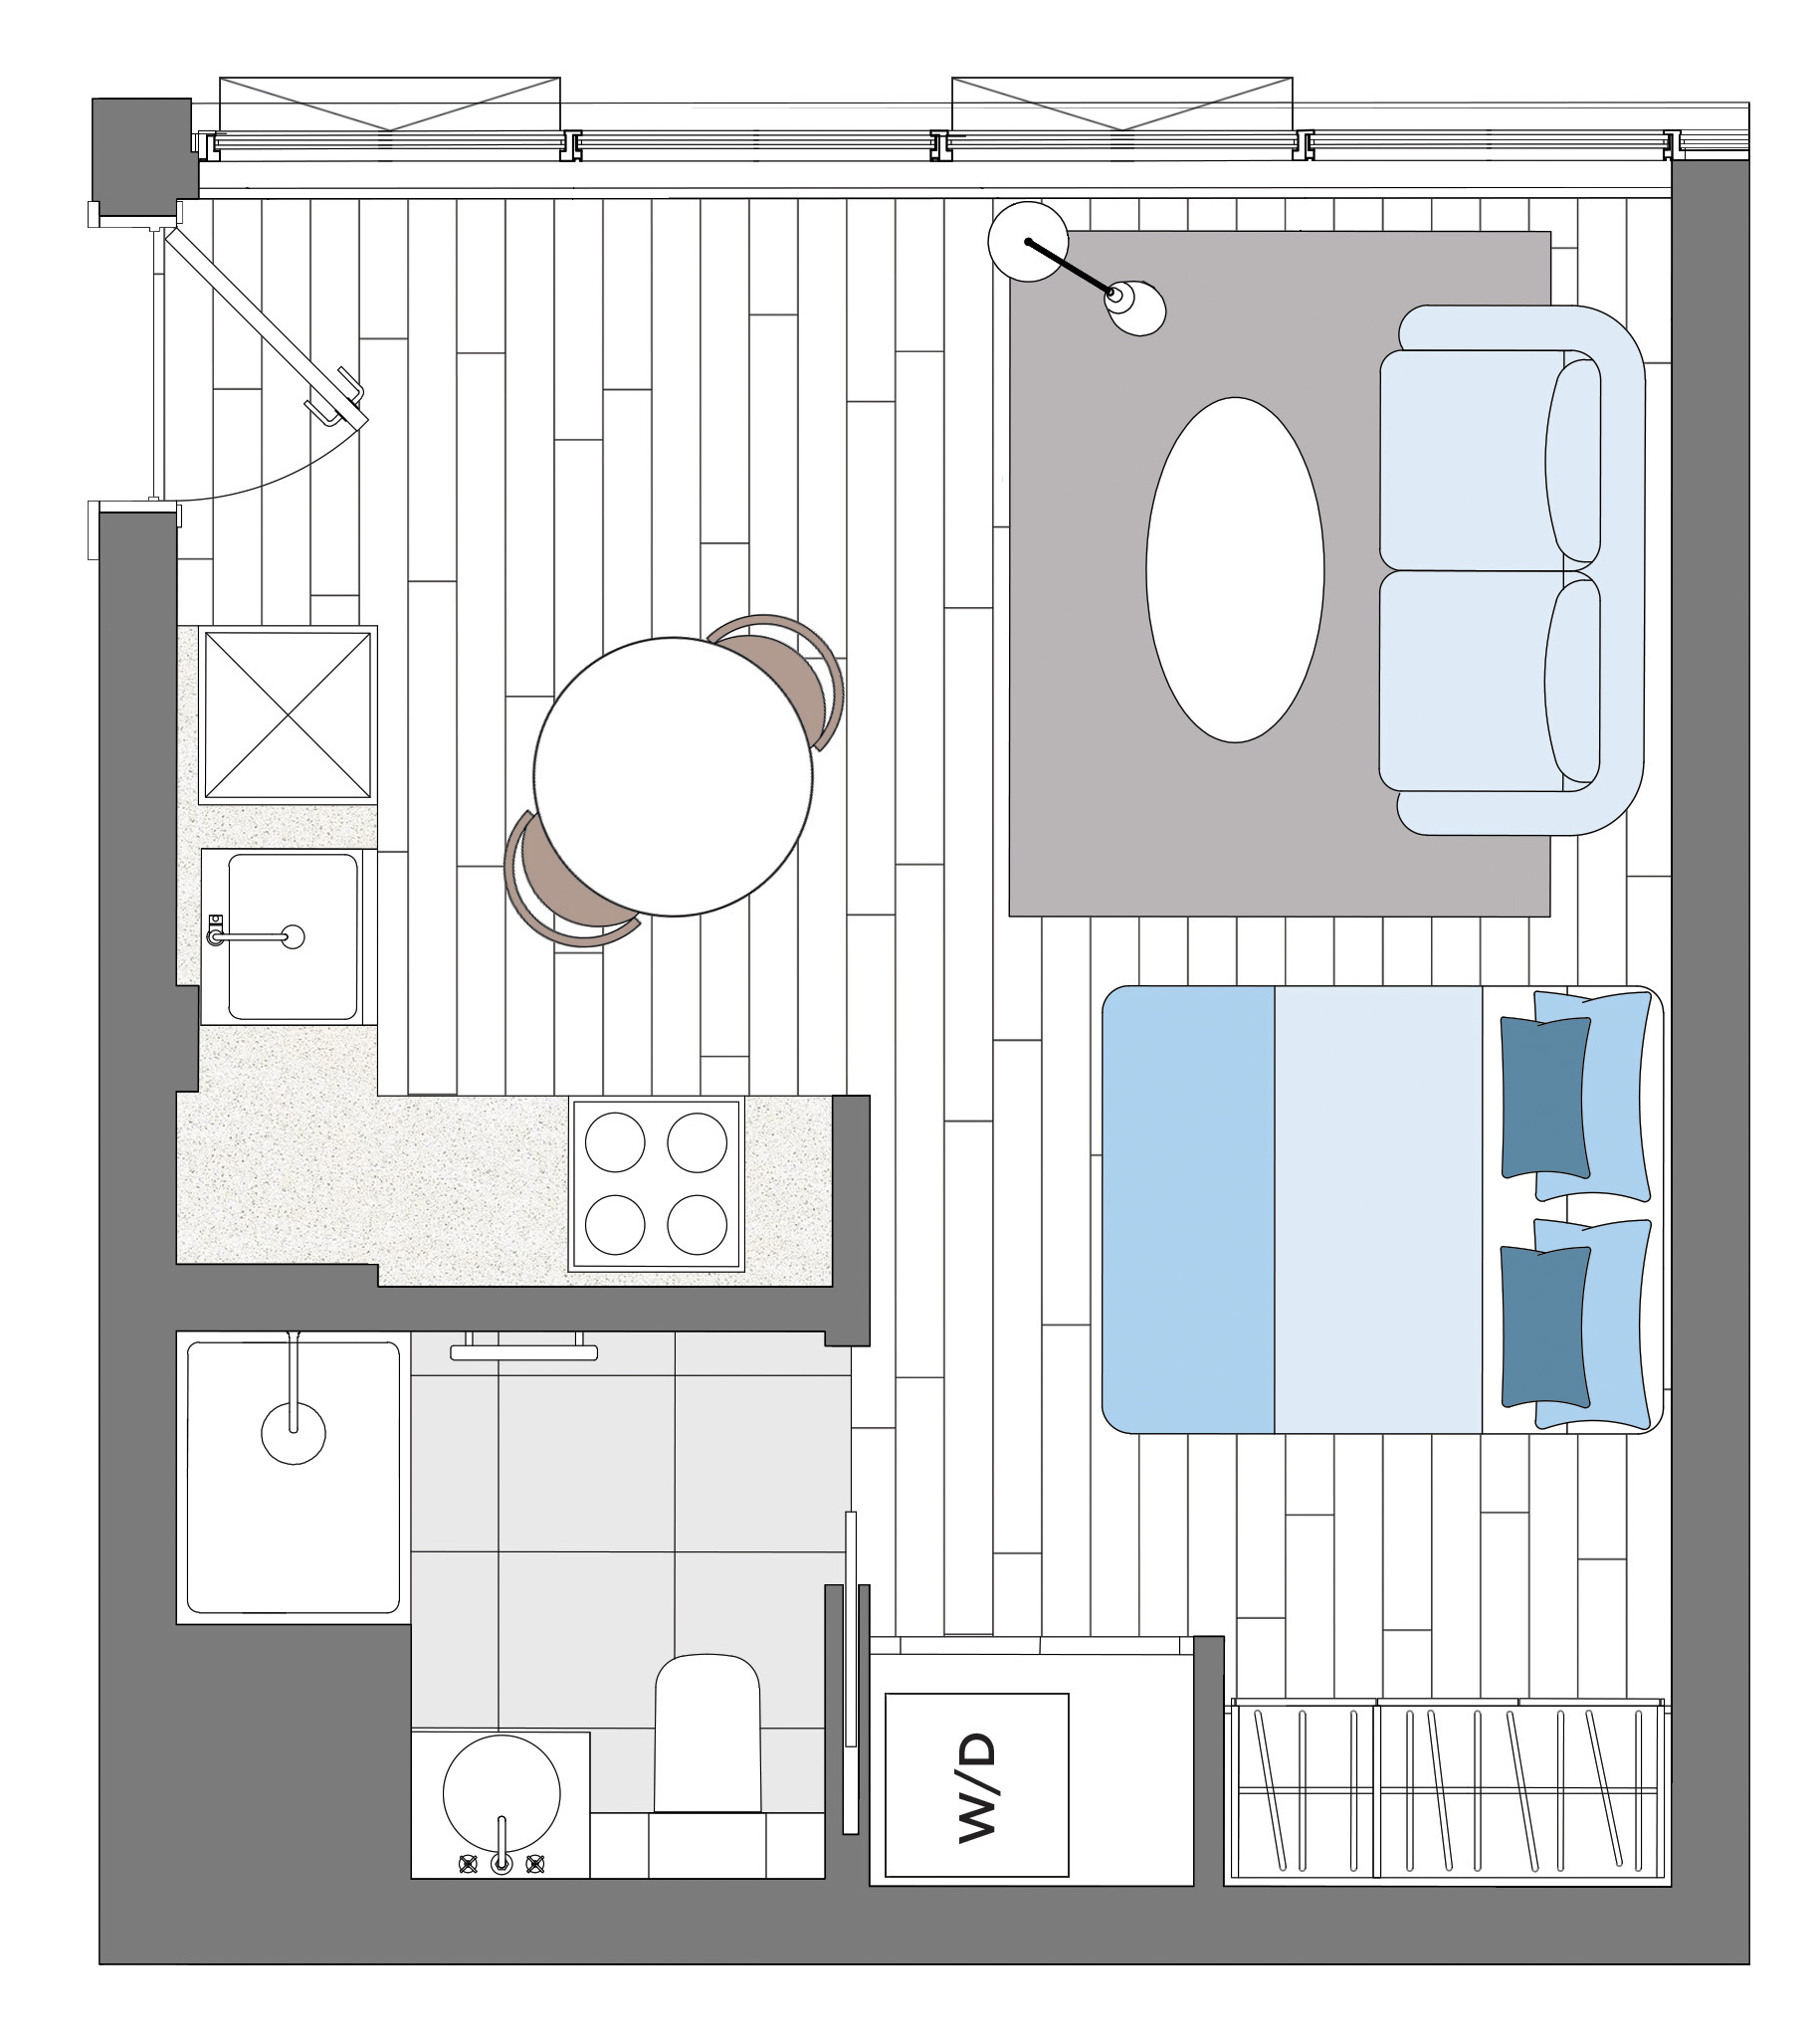door: (146, 226, 382, 514)
